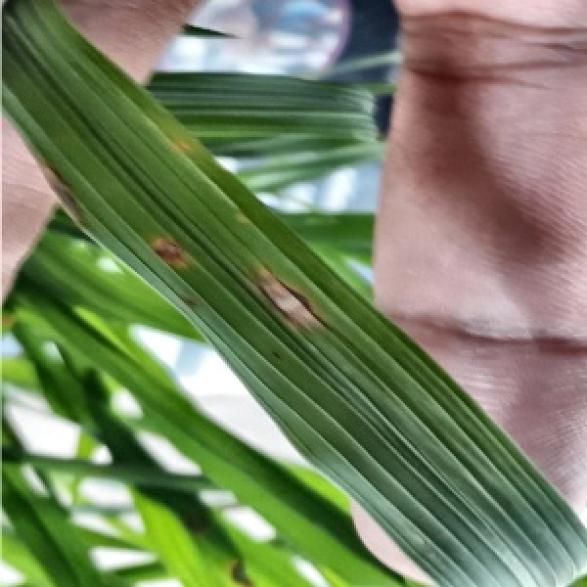Leaf_smut: (34, 148, 338, 334)
